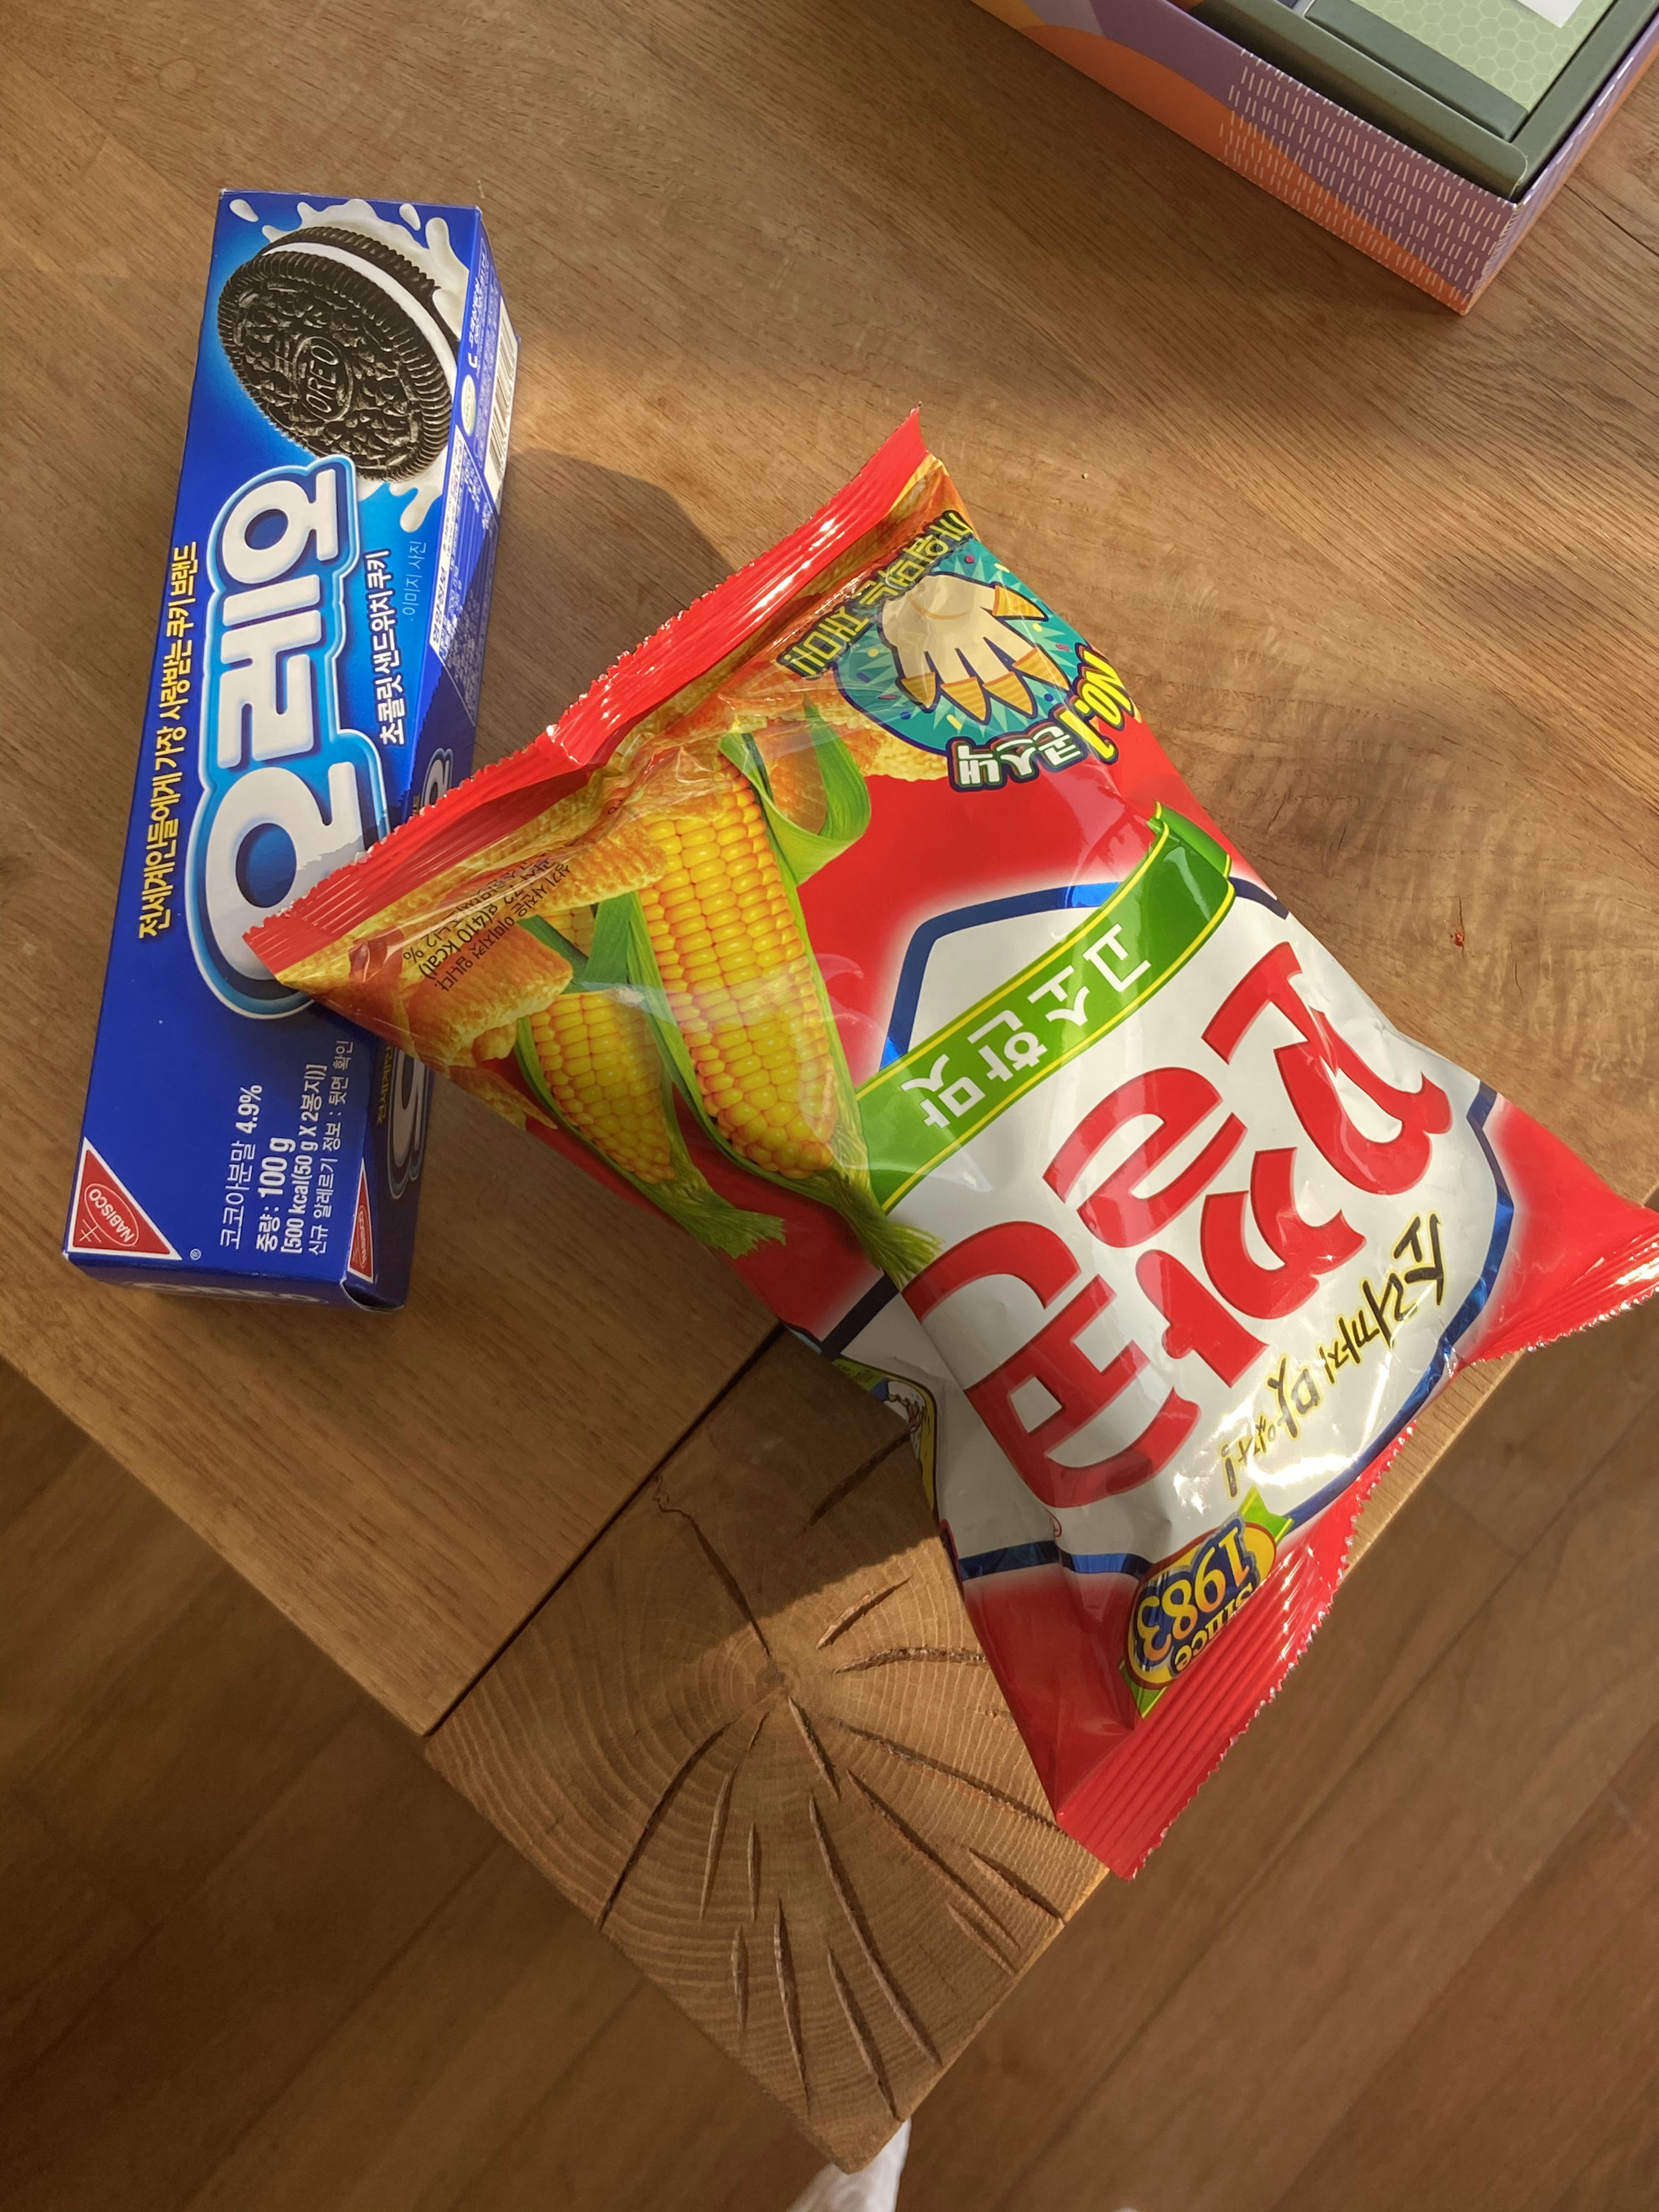ggoggalcon: (225, 387, 1659, 1893)
oreo: (47, 162, 533, 1364)
